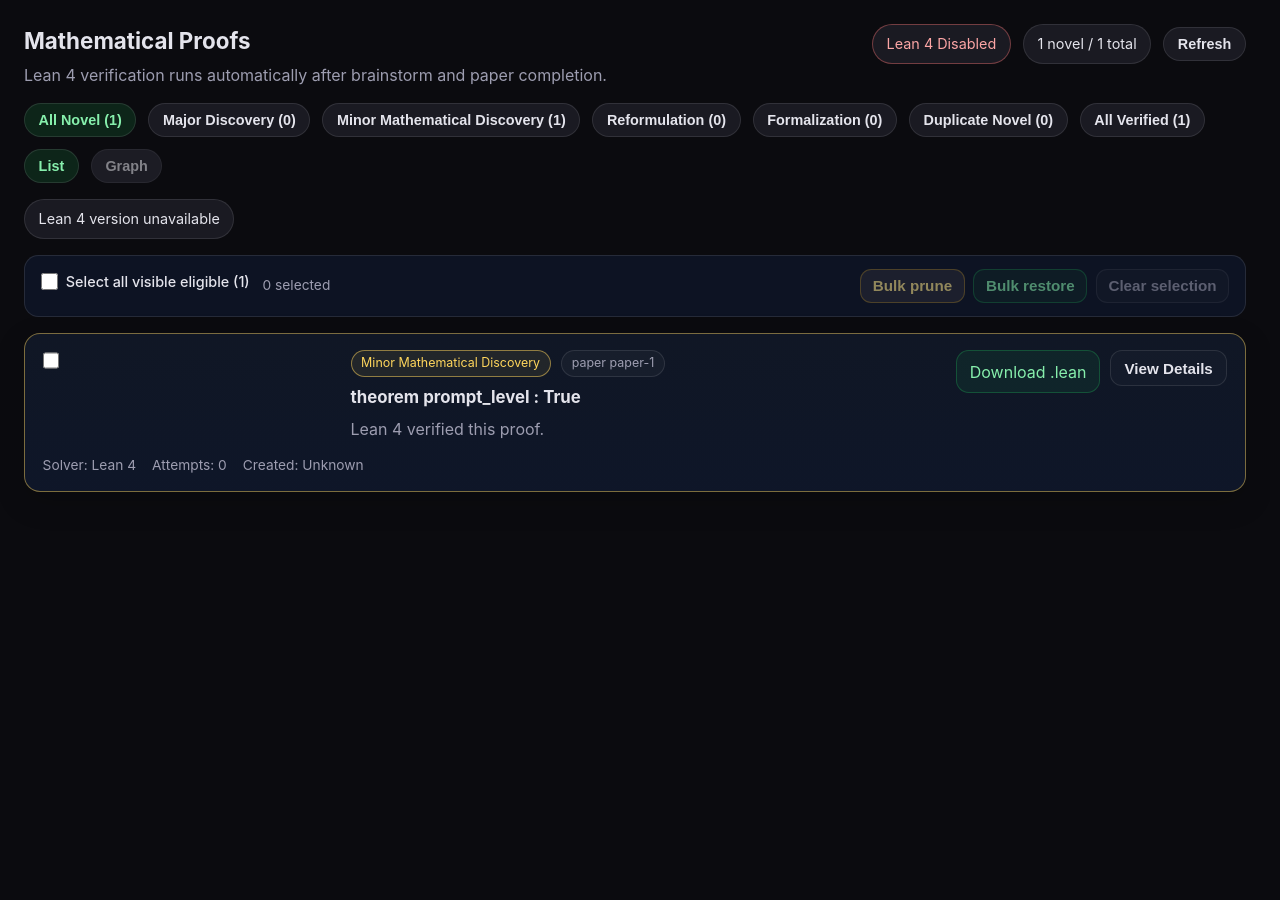
Test case: clears stale bulk selection and refreshes current state
The image size is (1280, 900).
Click the checkbox named "Select proof theorem prompt_level : True (proof-1)" at (51, 360), box [43,352,59,369]
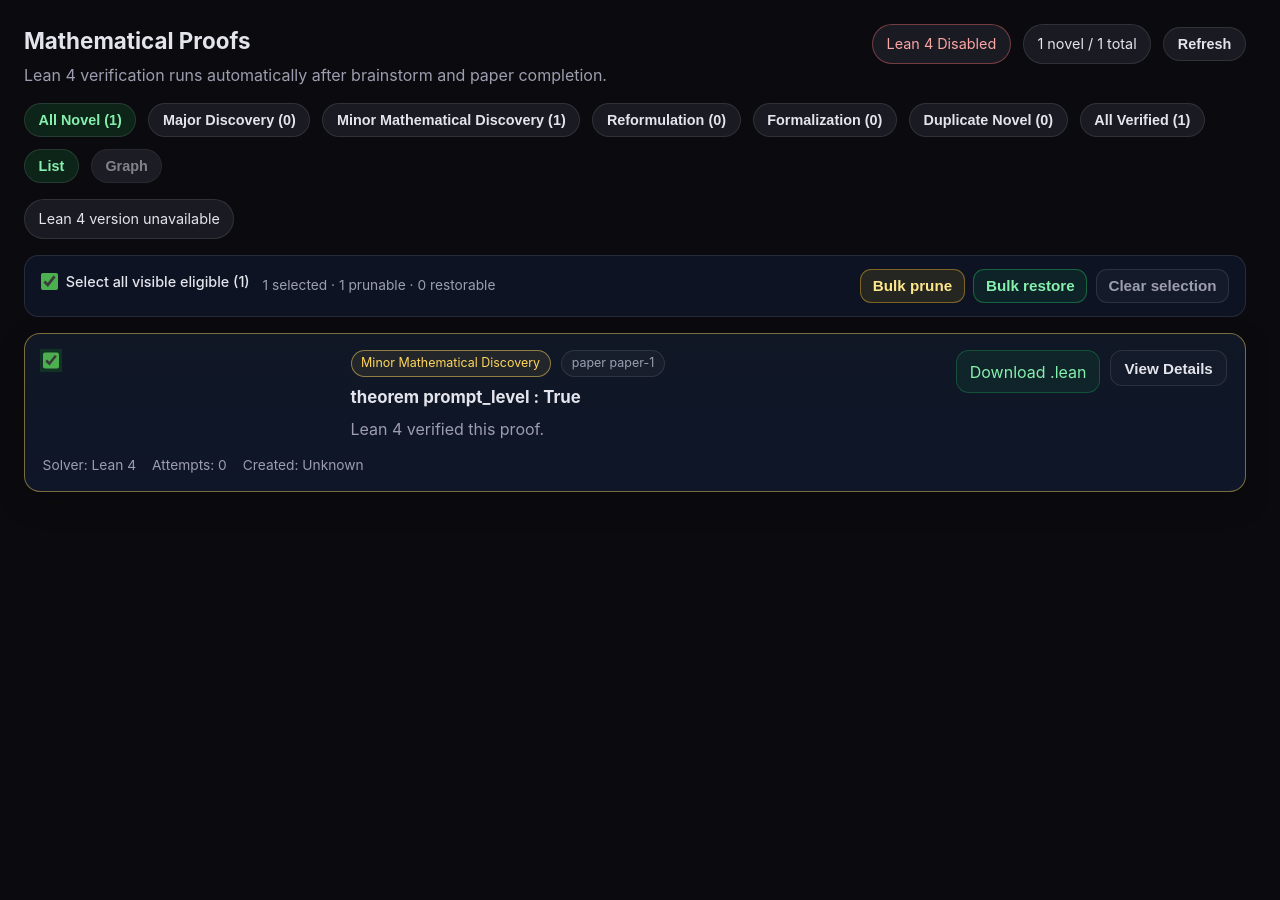
Click the button "Bulk prune" at (912, 286), box [860,269,965,303]
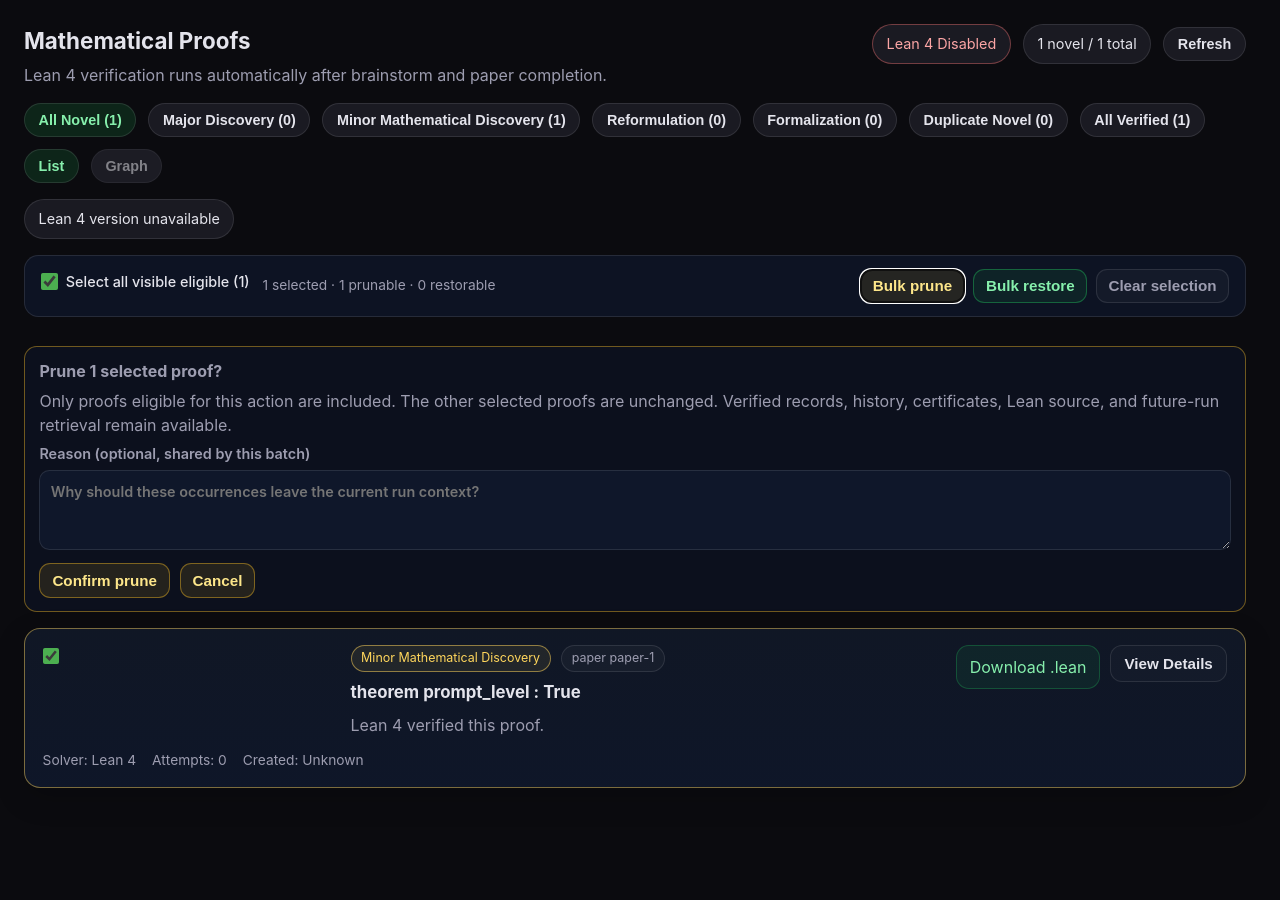
Click the button "Confirm prune" at (105, 581), box [39,563,170,598]
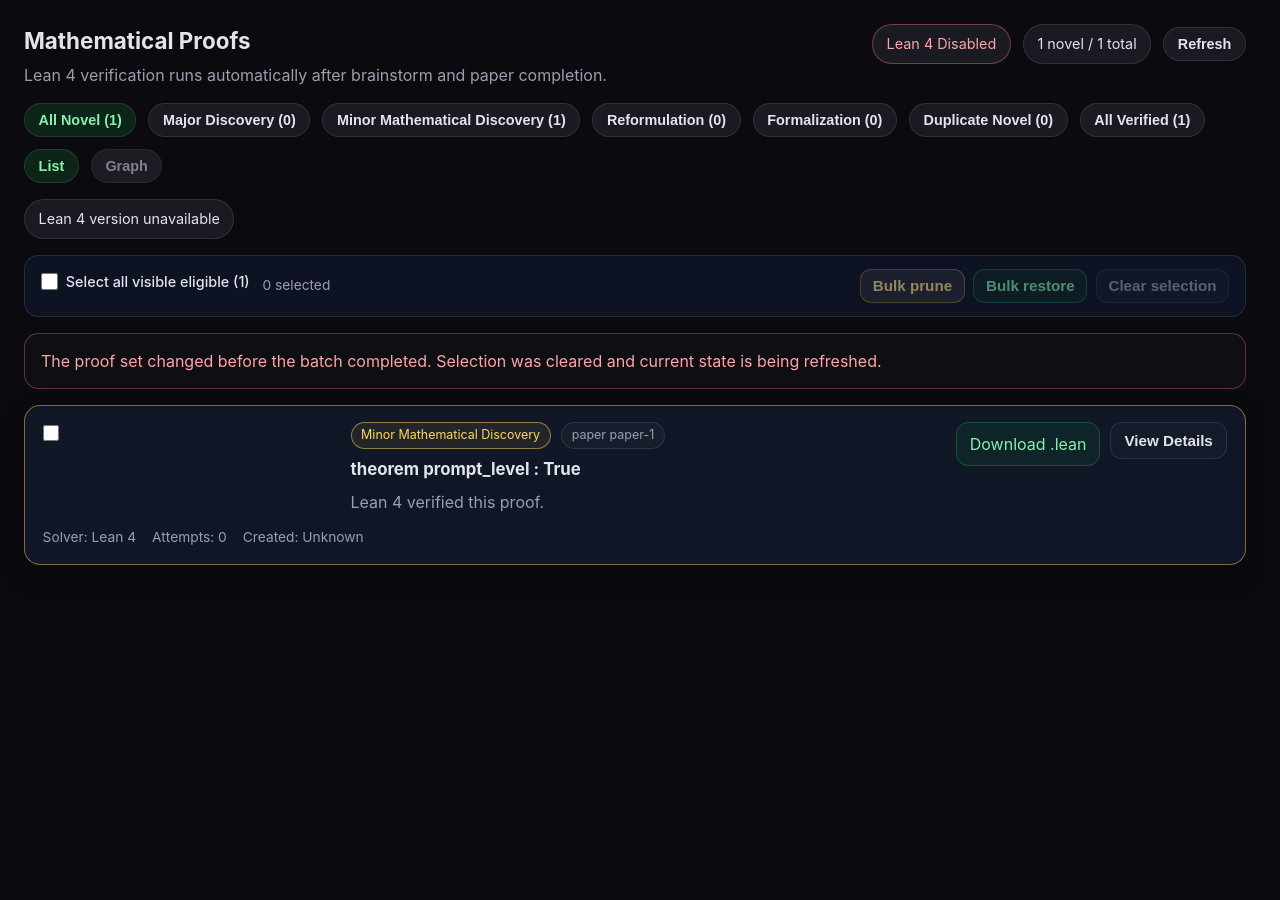
Now the text "proof set changed before the batch completed" is shown, box [41,351,882,371]
Now the text "0 selected" is shown, box [262,276,330,296]
